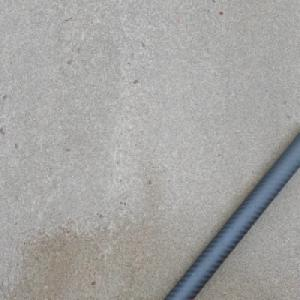LuggagePart: (153, 128, 299, 300)
